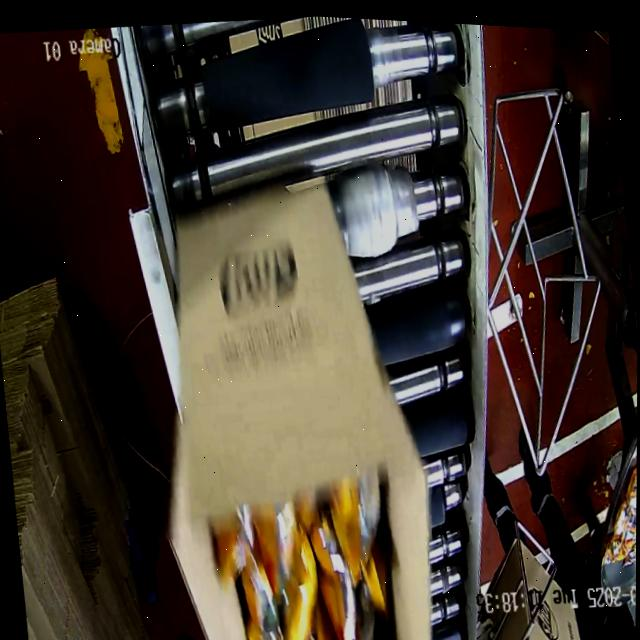FRENCH_CHEESE: (210, 458, 400, 640)
